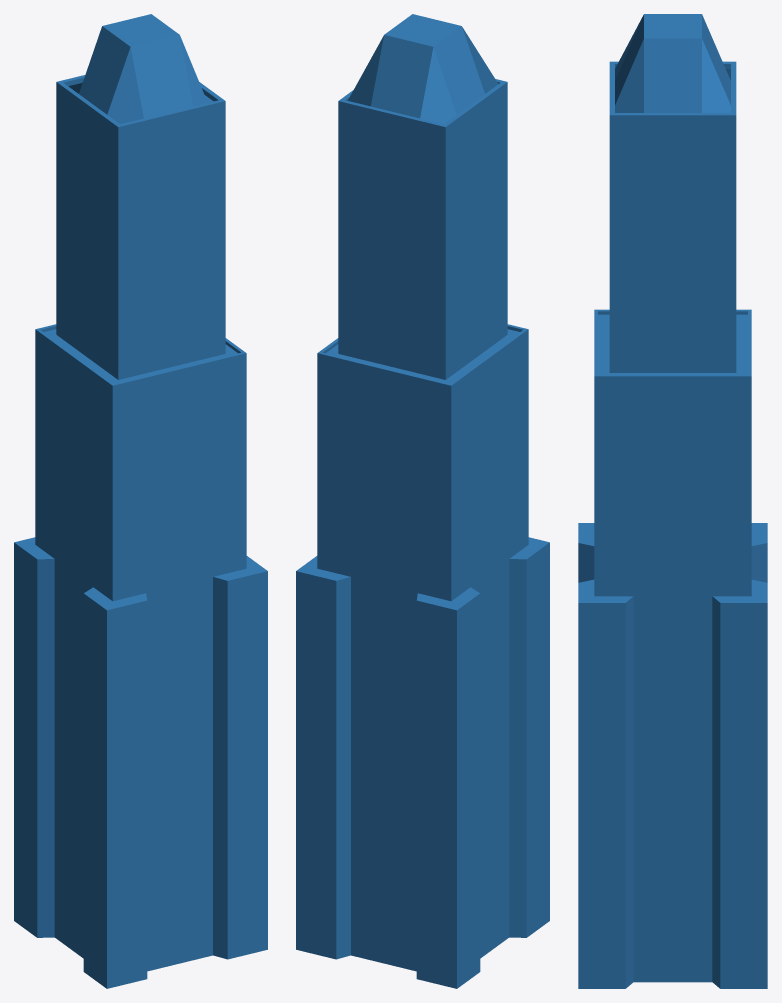
The model's file is tower.fbx.
3 views of the same model, side by side, from view 1: azimuth 30°, elevation 25°; view 2: azimuth 150°, elevation 25°; view 3: azimuth 270°, elevation 25° (orthographic).
Parts seen in each view (by area): view 1: Building_3.001; view 2: Building_3.001; view 3: Building_3.001.
Boxes of the visible parts, <box> form: Building_3.001: <box>14,14,267,988</box>; Building_3.001: <box>296,14,549,988</box>; Building_3.001: <box>578,14,767,988</box>.
Size of the model in its own units: 239 by 1286 by 239.
